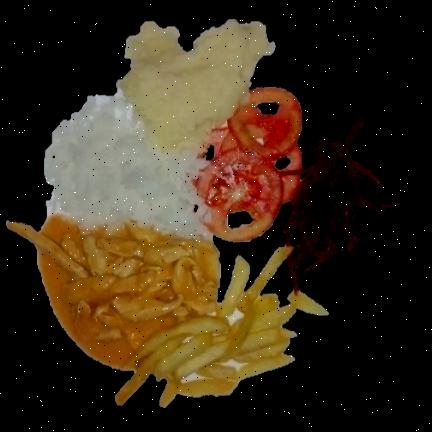beet: (283, 119, 398, 290)
chicken: (6, 216, 219, 369)
potato: (114, 246, 294, 406), (117, 18, 273, 150)
rice: (43, 92, 209, 237)
tomato: (194, 86, 301, 241)
